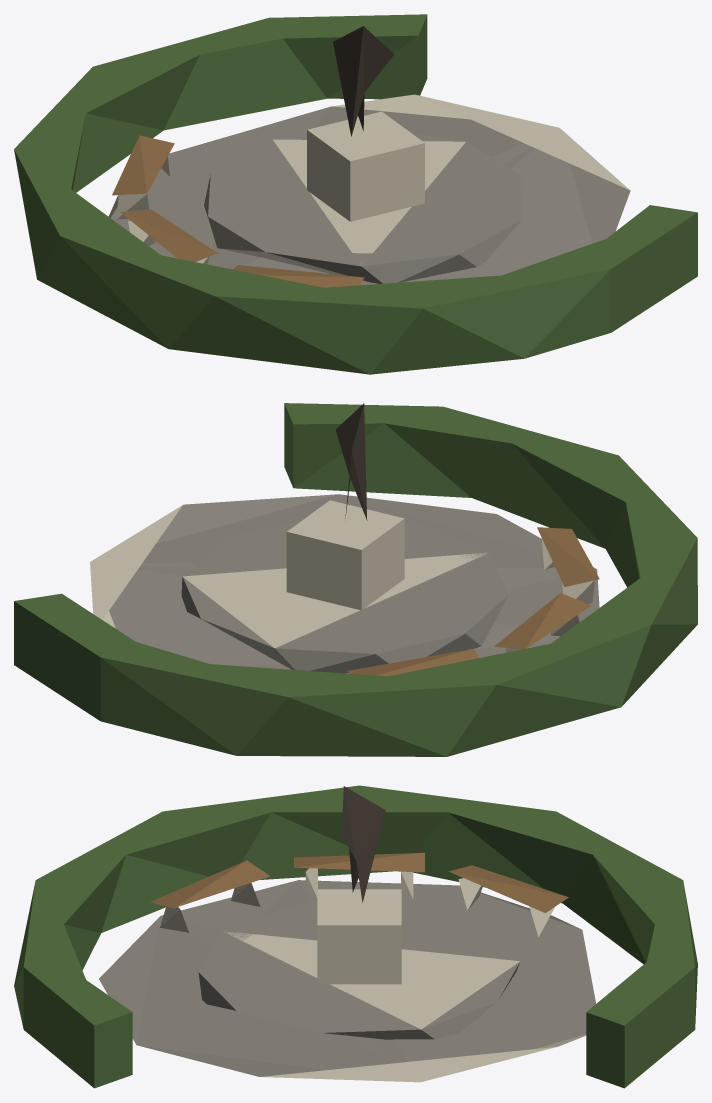
Rendered from gandhi-churchill-laan.lod2.glb.
The picture shows the model from 3 angles, top to bottom: view 1: azimuth 30°, elevation 25°; view 2: azimuth 150°, elevation 25°; view 3: azimuth 270°, elevation 25°; orthographic projection. The views are drawn at different scales.
Parts seen in each view (by area): view 1: lod2; view 2: lod2; view 3: lod2.
Boxes of the visible parts, box(x1,y1,x2,y2) form: lod2: box(14, 14, 697, 374); lod2: box(14, 403, 697, 756); lod2: box(14, 785, 697, 1088).
Bounding box in the file's own units: 7.81 × 2.92 × 8.89.
